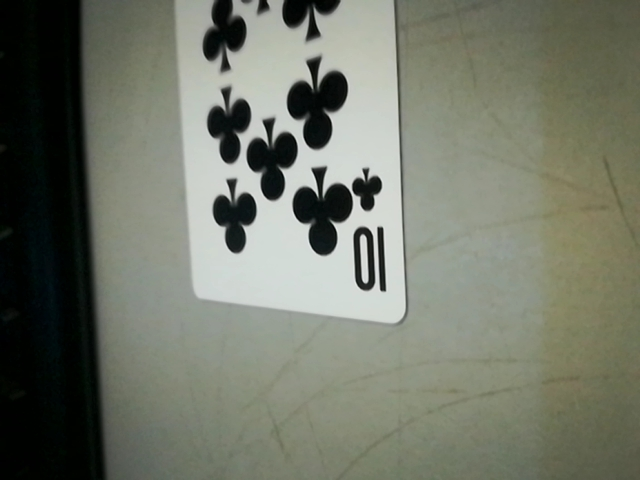mh 10: (348, 162, 399, 310)
